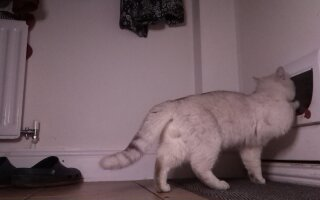bad: (100, 66, 302, 196)
